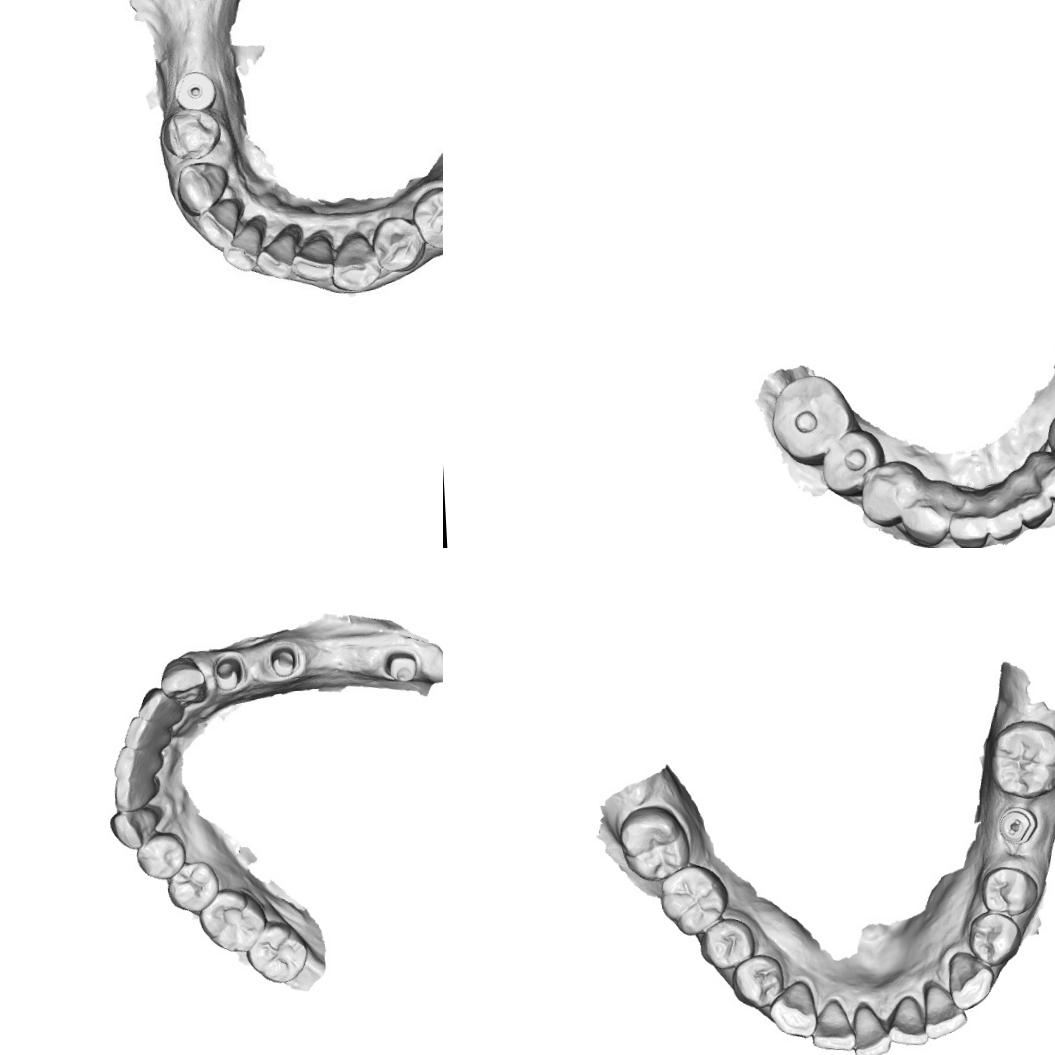abutment: (382, 648, 419, 686), (212, 654, 244, 693), (268, 644, 300, 678)
canine: (334, 230, 390, 296), (944, 948, 998, 1012), (897, 488, 954, 547), (765, 978, 816, 1040), (176, 160, 225, 212), (158, 654, 207, 705), (108, 806, 161, 850)
implant: (176, 69, 214, 107)
implant_minus: (995, 803, 1038, 847)
incisor: (922, 977, 968, 1040), (809, 996, 855, 1052), (884, 994, 929, 1050), (293, 230, 341, 282), (848, 1000, 891, 1055), (200, 202, 242, 256), (222, 218, 266, 268), (110, 742, 164, 781), (134, 684, 183, 726), (111, 773, 160, 813), (256, 228, 296, 276), (947, 504, 990, 548), (121, 712, 170, 750), (986, 501, 1026, 546), (1015, 486, 1055, 528), (1037, 457, 1055, 502)
molar: (766, 371, 854, 464), (614, 802, 693, 884), (654, 860, 732, 938), (987, 715, 1055, 801), (196, 884, 267, 956), (244, 918, 310, 985)
premolar: (817, 427, 885, 498), (858, 459, 916, 528), (962, 908, 1024, 968), (978, 862, 1041, 918), (726, 952, 788, 1008), (164, 858, 222, 916), (698, 915, 757, 972), (134, 829, 188, 881), (166, 106, 219, 158), (374, 216, 422, 268), (411, 183, 443, 250)
